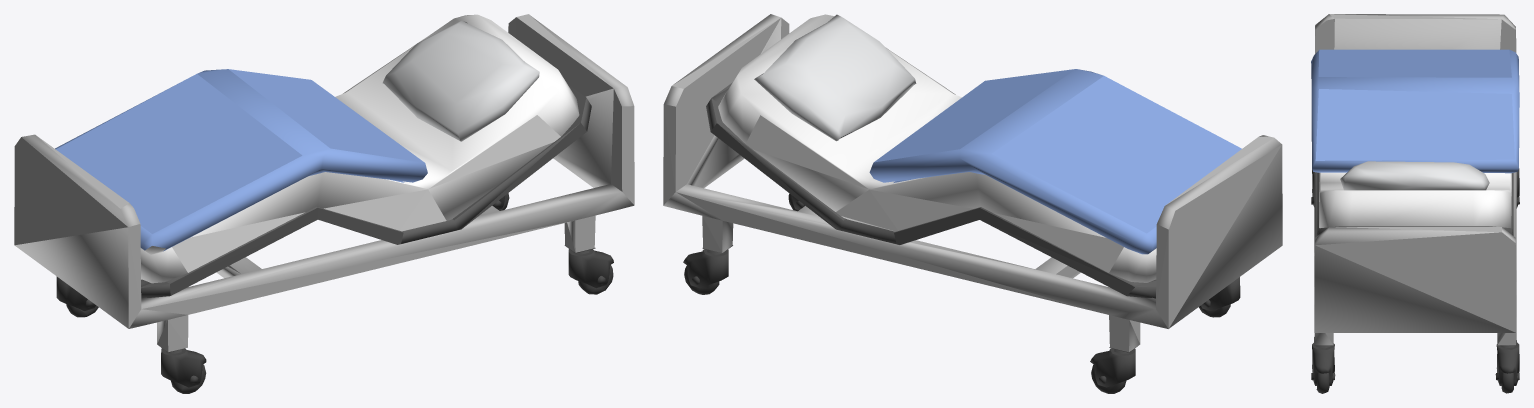
Rendered from hospital_bed.dae.
The picture shows the model from 3 angles, left to right: view 1: azimuth 30°, elevation 25°; view 2: azimuth 150°, elevation 25°; view 3: azimuth 270°, elevation 25°; orthographic projection. The views are drawn at different scales.
Visible parts, largest first — view 1: Bed.001, comforter, Bed, pillow, frame, Tire; view 2: Bed.001, comforter, Bed, pillow, frame, Tire; view 3: Bed.001, comforter, Bed, pillow, Tire, frame.
Part boxes in pixels (x1,y1,x2,y2): Bed.001: (14,14,634,352); comforter: (55,69,427,251); Bed: (140,14,579,283); pillow: (382,20,539,141); frame: (141,83,591,298); Tire: (56,193,613,393); Bed.001: (663,14,1282,352); comforter: (869,69,1241,254); Bed: (718,14,1156,282); pillow: (754,14,916,141); frame: (706,83,1156,298); Tire: (683,193,1240,393); Bed.001: (1314,14,1516,345); comforter: (1311,49,1519,173); Bed: (1319,172,1511,228); pillow: (1340,161,1489,190); Tire: (1311,168,1519,393); frame: (1317,172,1513,235).
Size of the model in its own units: 2.1 by 0.8467 by 0.9096.
